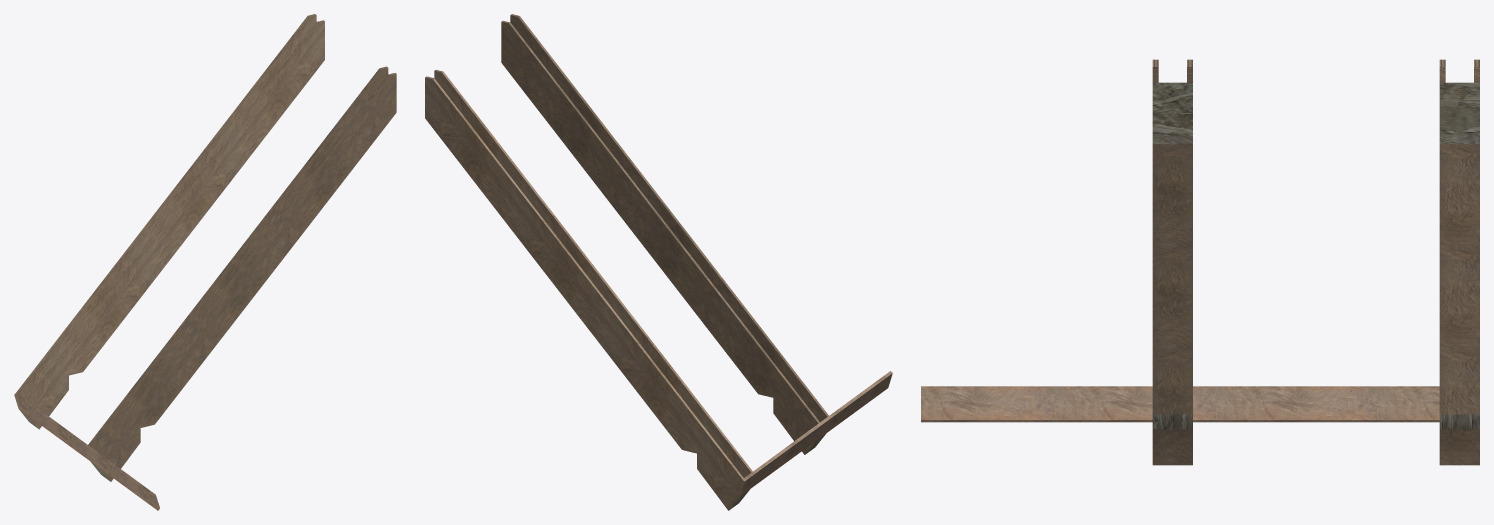
Rendered from RafterCapB.fbx.
The picture shows the model from 3 angles, left to right: view 1: azimuth 30°, elevation 25°; view 2: azimuth 150°, elevation 25°; view 3: azimuth 270°, elevation 25°; orthographic projection. The views are drawn at different scales.
Visible parts, largest first — view 1: RafterCapB; view 2: RafterCapB; view 3: RafterCapB.
Part boxes in pixels (box(x1,y1,x2,y2)): RafterCapB: box(14, 14, 396, 510); RafterCapB: box(425, 14, 892, 510); RafterCapB: box(921, 59, 1479, 465).
Bounding box in the file's own units: 465 × 500 × 374.
